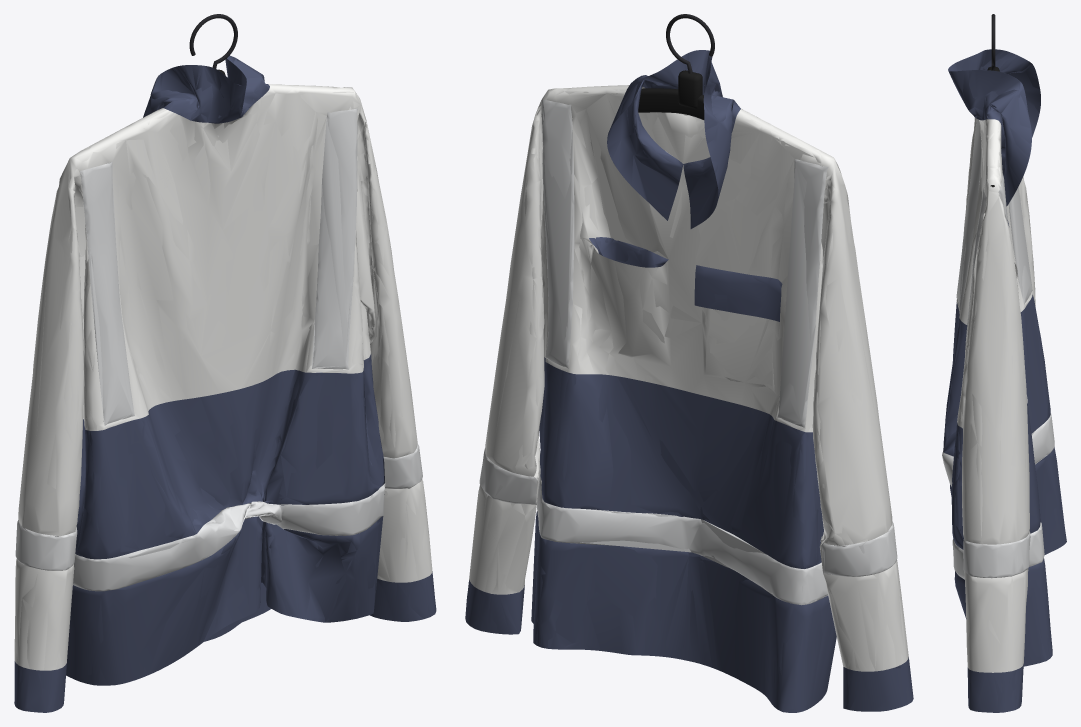
The model's file is shirt-hivis-bs6896.glb.
3 renders of one model, left to right at view 1: azimuth 30°, elevation 25°; view 2: azimuth 150°, elevation 25°; view 3: azimuth 270°, elevation 25°, orthographic. The views are drawn at different scales.
Parts seen in each view (by area): view 1: shirt_hivis_md_LOD0_body, shirt_hivis_md_LOD0_navy, shirt_hivis_md_LOD1_body, shirt_hivis_md_LOD1_navy, shirt_hivis_md_LOD0_tape, shirt_hivis_md_LOD1_tape; view 2: shirt_hivis_md_LOD0_body, shirt_hivis_md_LOD0_navy, shirt_hivis_md_LOD1_body, shirt_hivis_md_LOD1_navy, shirt_hivis_md_LOD0_tape, shirt_hivis_md_LOD1_tape, shirt_hivis_md_LOD0_hw; view 3: shirt_hivis_md_LOD0_body, shirt_hivis_md_LOD0_navy, shirt_hivis_md_LOD1_navy, shirt_hivis_md_LOD0_tape, shirt_hivis_md_LOD1_body, shirt_hivis_md_LOD1_tape, shirt_hivis_md_LOD0.
Part boxes in pixels (x1,y1,x2,y2): shirt_hivis_md_LOD0_body: (14,84,432,670); shirt_hivis_md_LOD0_navy: (14,58,436,712); shirt_hivis_md_LOD1_body: (14,84,429,670); shirt_hivis_md_LOD1_navy: (15,55,430,712); shirt_hivis_md_LOD0_tape: (15,108,422,591); shirt_hivis_md_LOD1_tape: (23,117,384,558); shirt_hivis_md_LOD0_body: (469,85,908,671); shirt_hivis_md_LOD0_navy: (465,50,913,712); shirt_hivis_md_LOD1_body: (477,85,908,671); shirt_hivis_md_LOD1_navy: (466,50,911,711); shirt_hivis_md_LOD0_tape: (479,99,897,605); shirt_hivis_md_LOD1_tape: (481,101,891,603); shirt_hivis_md_LOD0_hw: (638,70,704,119); shirt_hivis_md_LOD0_body: (956,117,1035,672); shirt_hivis_md_LOD0_navy: (943,49,1066,712); shirt_hivis_md_LOD1_navy: (943,51,1064,711); shirt_hivis_md_LOD0_tape: (942,119,1054,579); shirt_hivis_md_LOD1_body: (958,118,1035,650); shirt_hivis_md_LOD1_tape: (944,173,1047,568); shirt_hivis_md_LOD0: (991,14,995,70).
Size of what is drawn, in the model's own units: 0.6499 by 0.943 by 0.1776.
